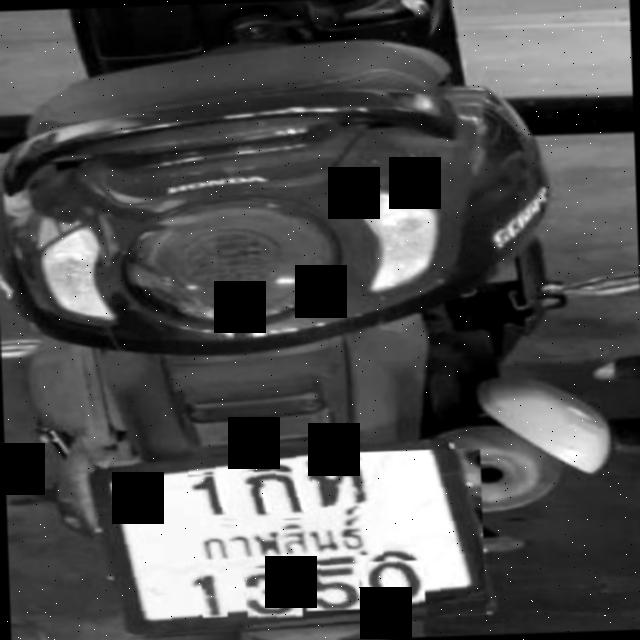letters: (241, 468, 316, 520), (310, 458, 376, 508), (244, 566, 302, 618), (368, 560, 426, 608), (303, 563, 360, 611), (187, 474, 231, 517), (200, 559, 228, 618)
license-plate: (94, 449, 485, 637)
province: (195, 514, 382, 560)
